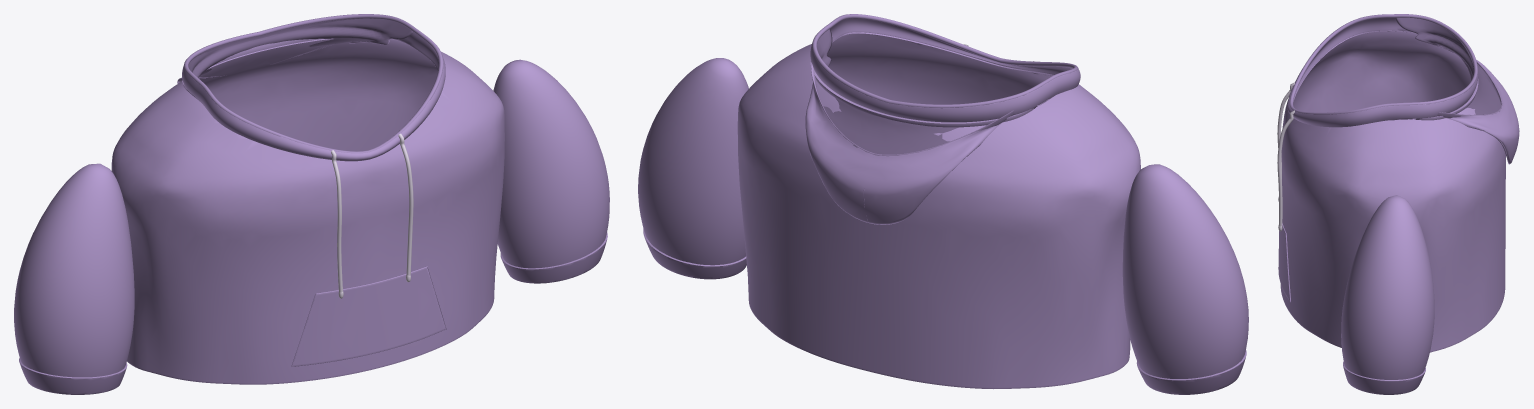
The model's file is Masculine-top264.glb.
3 renders of one model, left to right at view 1: azimuth 30°, elevation 25°; view 2: azimuth 150°, elevation 25°; view 3: azimuth 270°, elevation 25°, orthographic. The views are drawn at different scales.
Parts seen in each view (by area): view 1: Clothing / tailored203.001, Sleeve / full fabric wrap201 -1.001, Sleeve / full fabric wrap201 1.001, Hoodie / seated pouch202.001, Hoodie / attached opening204.001, Hoodie / rounded resting hood215.001, Hoodie / rolled opening204.001, Sleeve / shaped cuff202 -1.001, Sleeve / shaped cuff202 1.001, Hoodie / front seated cord205 1.001, Hoodie / front seated cord205 -1.001; view 2: Clothing / tailored203.001, Sleeve / full fabric wrap201 -1.001, Sleeve / full fabric wrap201 1.001, Hoodie / rounded resting hood215.001, Hoodie / attached opening204.001, Hoodie / rolled opening204.001, Sleeve / shaped cuff202 -1.001, Sleeve / shaped cuff202 1.001; view 3: Clothing / tailored203.001, Sleeve / full fabric wrap201 1.001, Hoodie / rounded resting hood215.001, Hoodie / attached opening204.001, Hoodie / rolled opening204.001, Sleeve / shaped cuff202 1.001, Hoodie / seated pouch202.001, Hoodie / front seated cord205 1.001, Hoodie / front seated cord205 -1.001.
Part boxes in pixels (<box>): Clothing / tailored203.001: <box>111,38,504,384</box>; Sleeve / full fabric wrap201 -1.001: <box>14,163,134,377</box>; Sleeve / full fabric wrap201 1.001: <box>493,59,609,268</box>; Hoodie / seated pouch202.001: <box>292,266,445,366</box>; Hoodie / attached opening204.001: <box>182,18,445,161</box>; Hoodie / rounded resting hood215.001: <box>177,18,413,83</box>; Hoodie / rolled opening204.001: <box>184,14,443,153</box>; Sleeve / shaped cuff202 -1.001: <box>19,358,127,394</box>; Sleeve / shaped cuff202 1.001: <box>500,232,607,283</box>; Hoodie / front seated cord205 1.001: <box>398,133,413,275</box>; Hoodie / front seated cord205 -1.001: <box>331,150,342,292</box>; Clothing / tailored203.001: <box>737,32,1140,389</box>; Sleeve / full fabric wrap201 -1.001: <box>1122,164,1248,378</box>; Sleeve / full fabric wrap201 1.001: <box>638,58,748,265</box>; Hoodie / rounded resting hood215.001: <box>805,29,1014,224</box>; Hoodie / attached opening204.001: <box>810,18,1080,127</box>; Hoodie / rolled opening204.001: <box>812,14,1078,108</box>; Sleeve / shaped cuff202 -1.001: <box>1136,350,1246,394</box>; Sleeve / shaped cuff202 1.001: <box>643,228,746,279</box>; Clothing / tailored203.001: <box>1280,30,1505,352</box>; Sleeve / full fabric wrap201 1.001: <box>1341,195,1434,379</box>; Hoodie / rounded resting hood215.001: <box>1395,17,1519,164</box>; Hoodie / attached opening204.001: <box>1287,17,1478,127</box>; Hoodie / rolled opening204.001: <box>1289,14,1477,114</box>; Sleeve / shaped cuff202 1.001: <box>1343,362,1425,394</box>; Hoodie / seated pouch202.001: <box>1278,223,1290,301</box>; Hoodie / front seated cord205 1.001: <box>1277,110,1294,226</box>; Hoodie / front seated cord205 -1.001: <box>1277,82,1294,178</box>.
Size of the model in its own units: 1.09 by 0.4801 by 0.4621.
